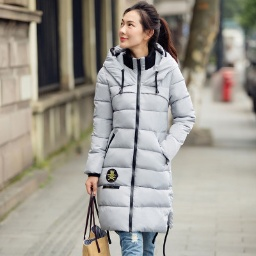face: (112, 1, 178, 58)
